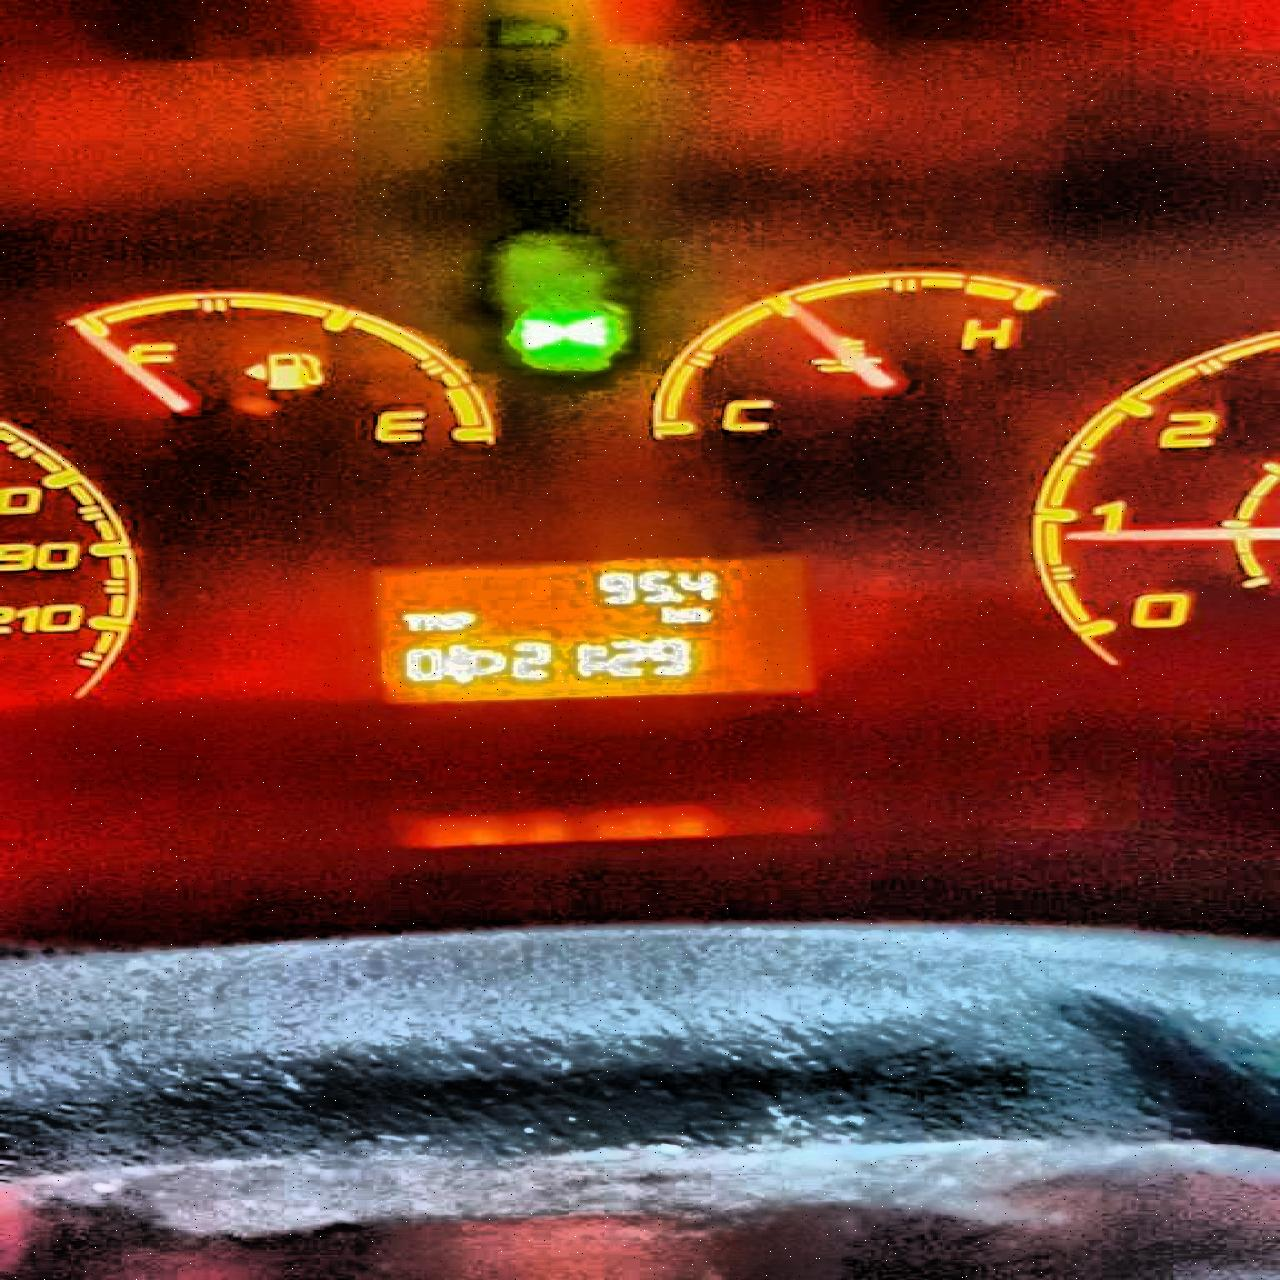-: (672, 592, 687, 602)
0: (400, 645, 442, 680)
1: (573, 641, 591, 680)
2: (508, 639, 549, 680), (606, 638, 645, 676)
4: (675, 568, 717, 599)
5: (635, 568, 674, 602)
9: (647, 636, 692, 674), (595, 570, 635, 604)
X: (588, 642, 607, 673), (680, 606, 712, 622), (422, 611, 444, 631), (400, 612, 420, 633), (458, 610, 478, 631), (658, 605, 678, 624), (447, 612, 456, 633)
odometer: (349, 549, 828, 712)
